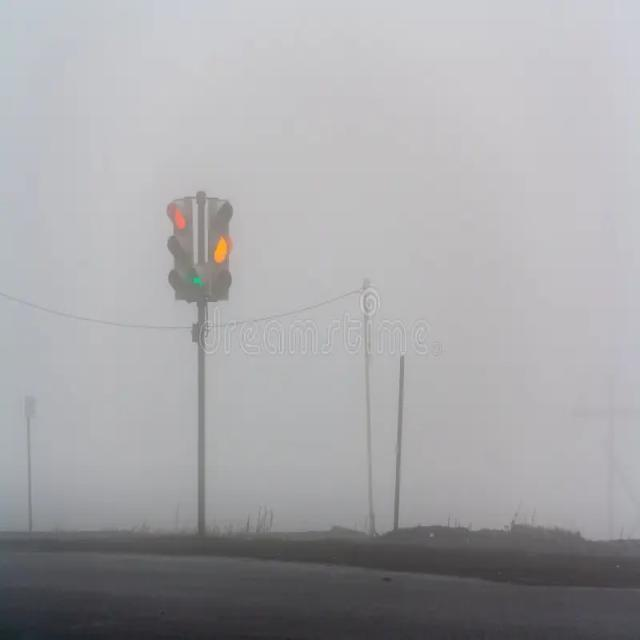yellow_light: (209, 199, 230, 298), (171, 201, 191, 295)
